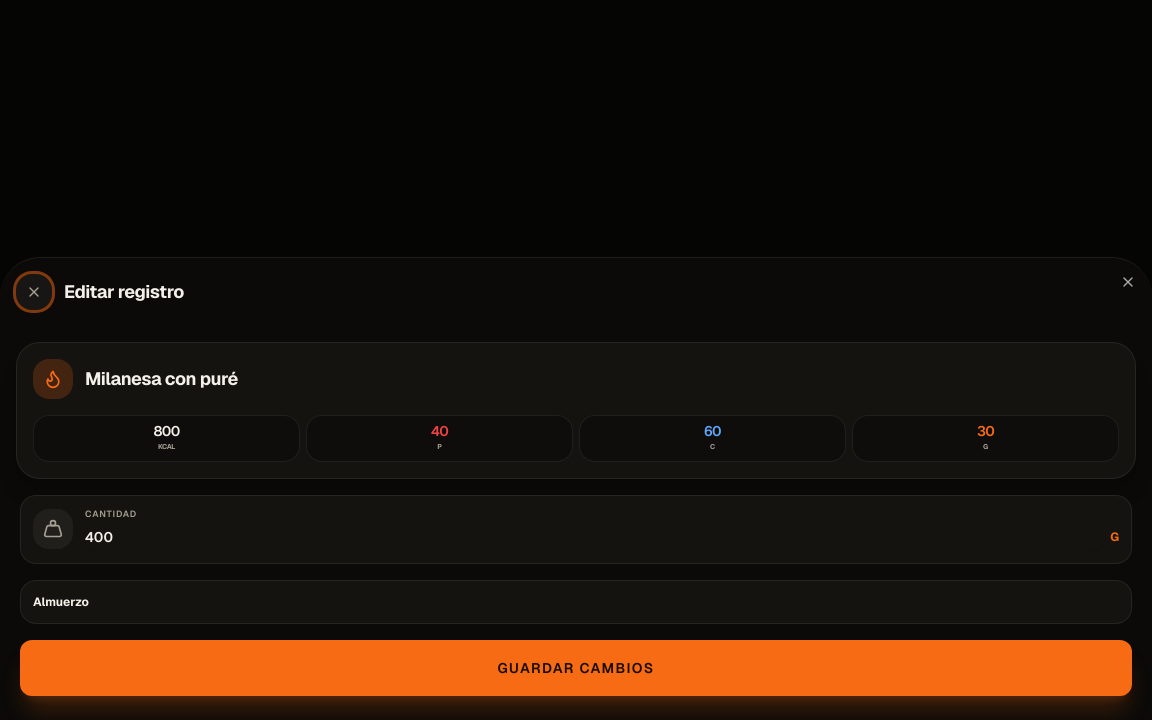
Test: EditEntrySheet › refuses to save a negative amount
Replace the text in the number field named "Cantidad" with "-5" at [594, 537], box [85,523,1102,551]
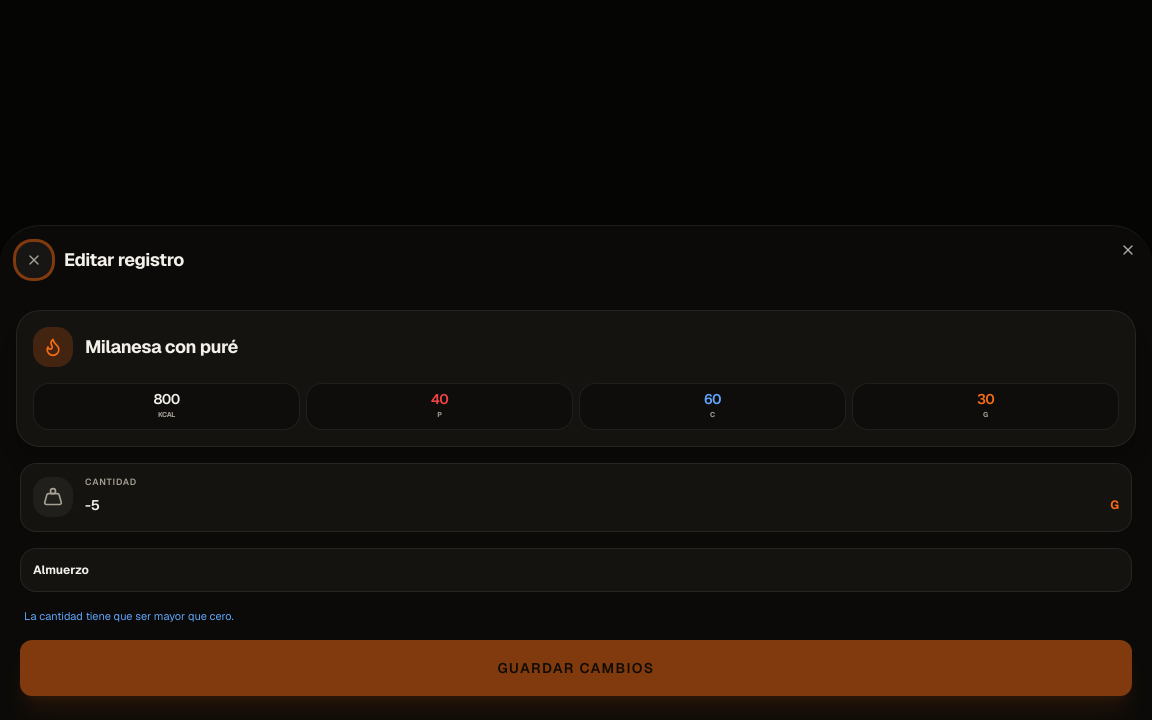
expect the button "Guardar Cambios" is disabled: met, box [20,640,1132,696]
